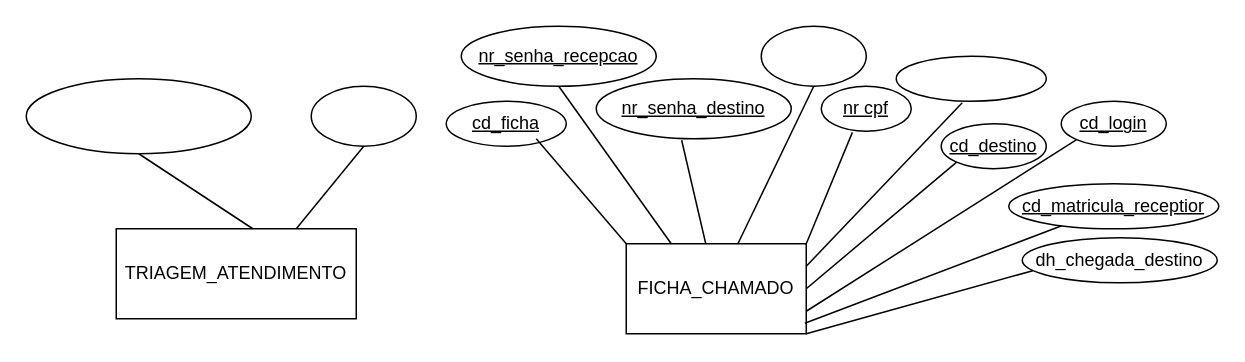
Some shapes in this 1245 by 362 pixel diagram are drawn without their labels. The centre of each missing label's shape, as x and y in pixels:
"cd_triagem_atendimento" goes at (x=138, y=115).
"dh_registro" goes at (x=813, y=55).
"ds_senha" goes at (x=363, y=115).
"nome_paciente" goes at (x=970, y=78).
